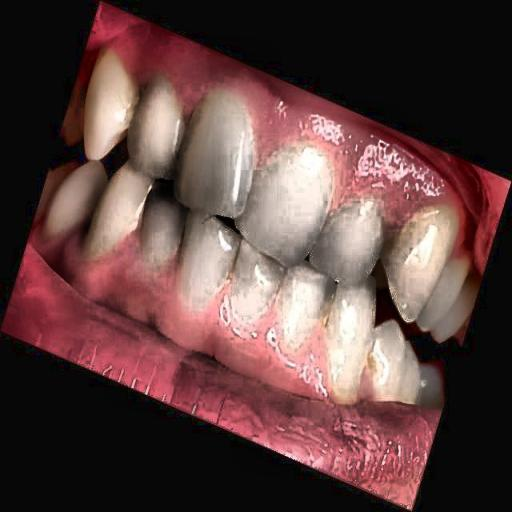Healthy: (93, 46, 415, 384)
